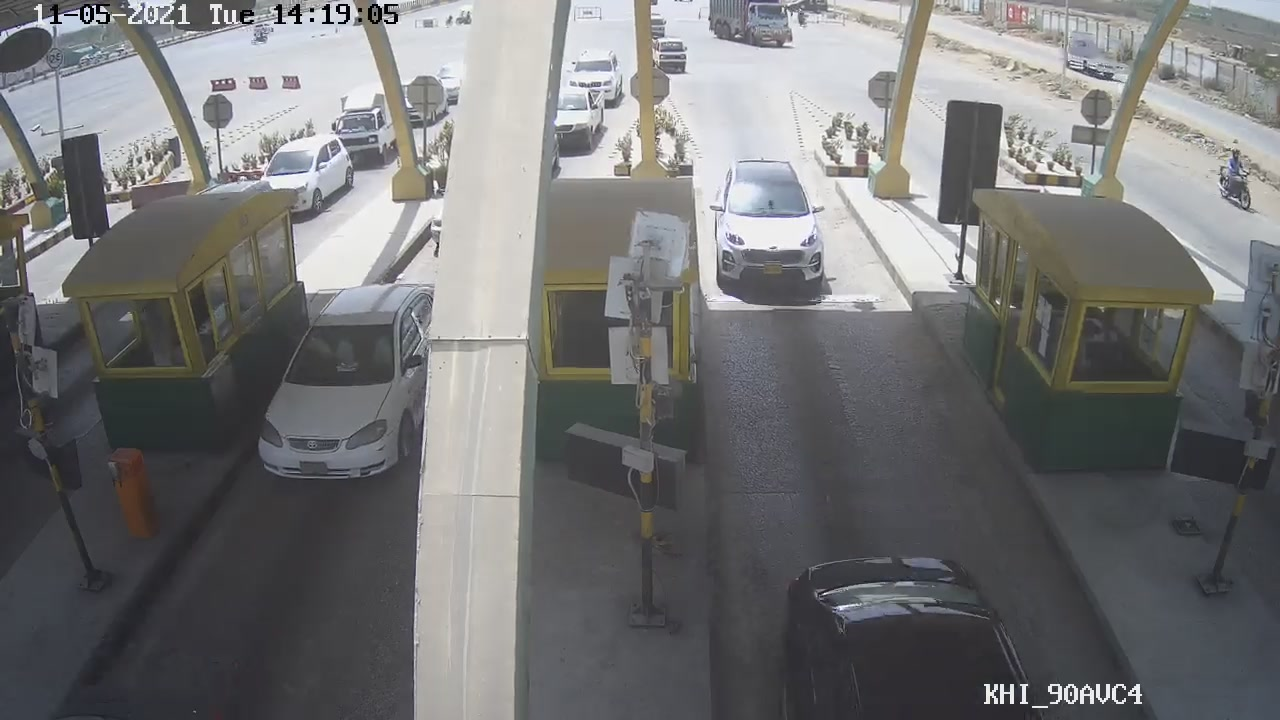F1: (706, 156, 833, 299)
